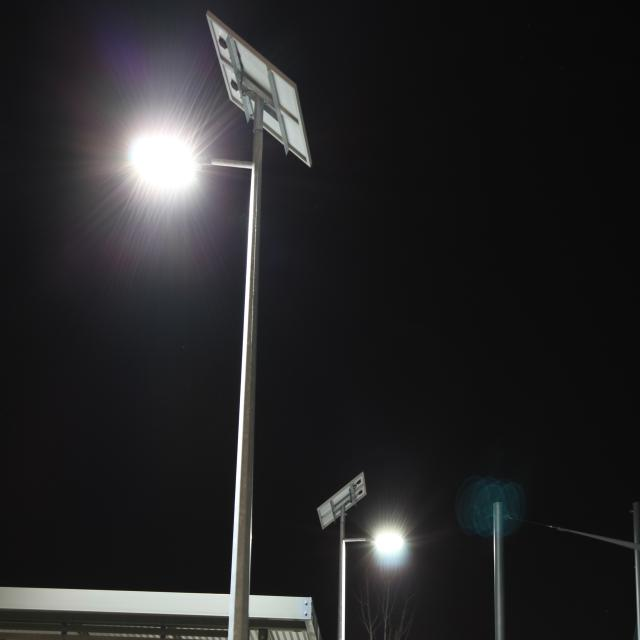Street Light: (129, 130, 265, 639), (338, 527, 405, 640)
